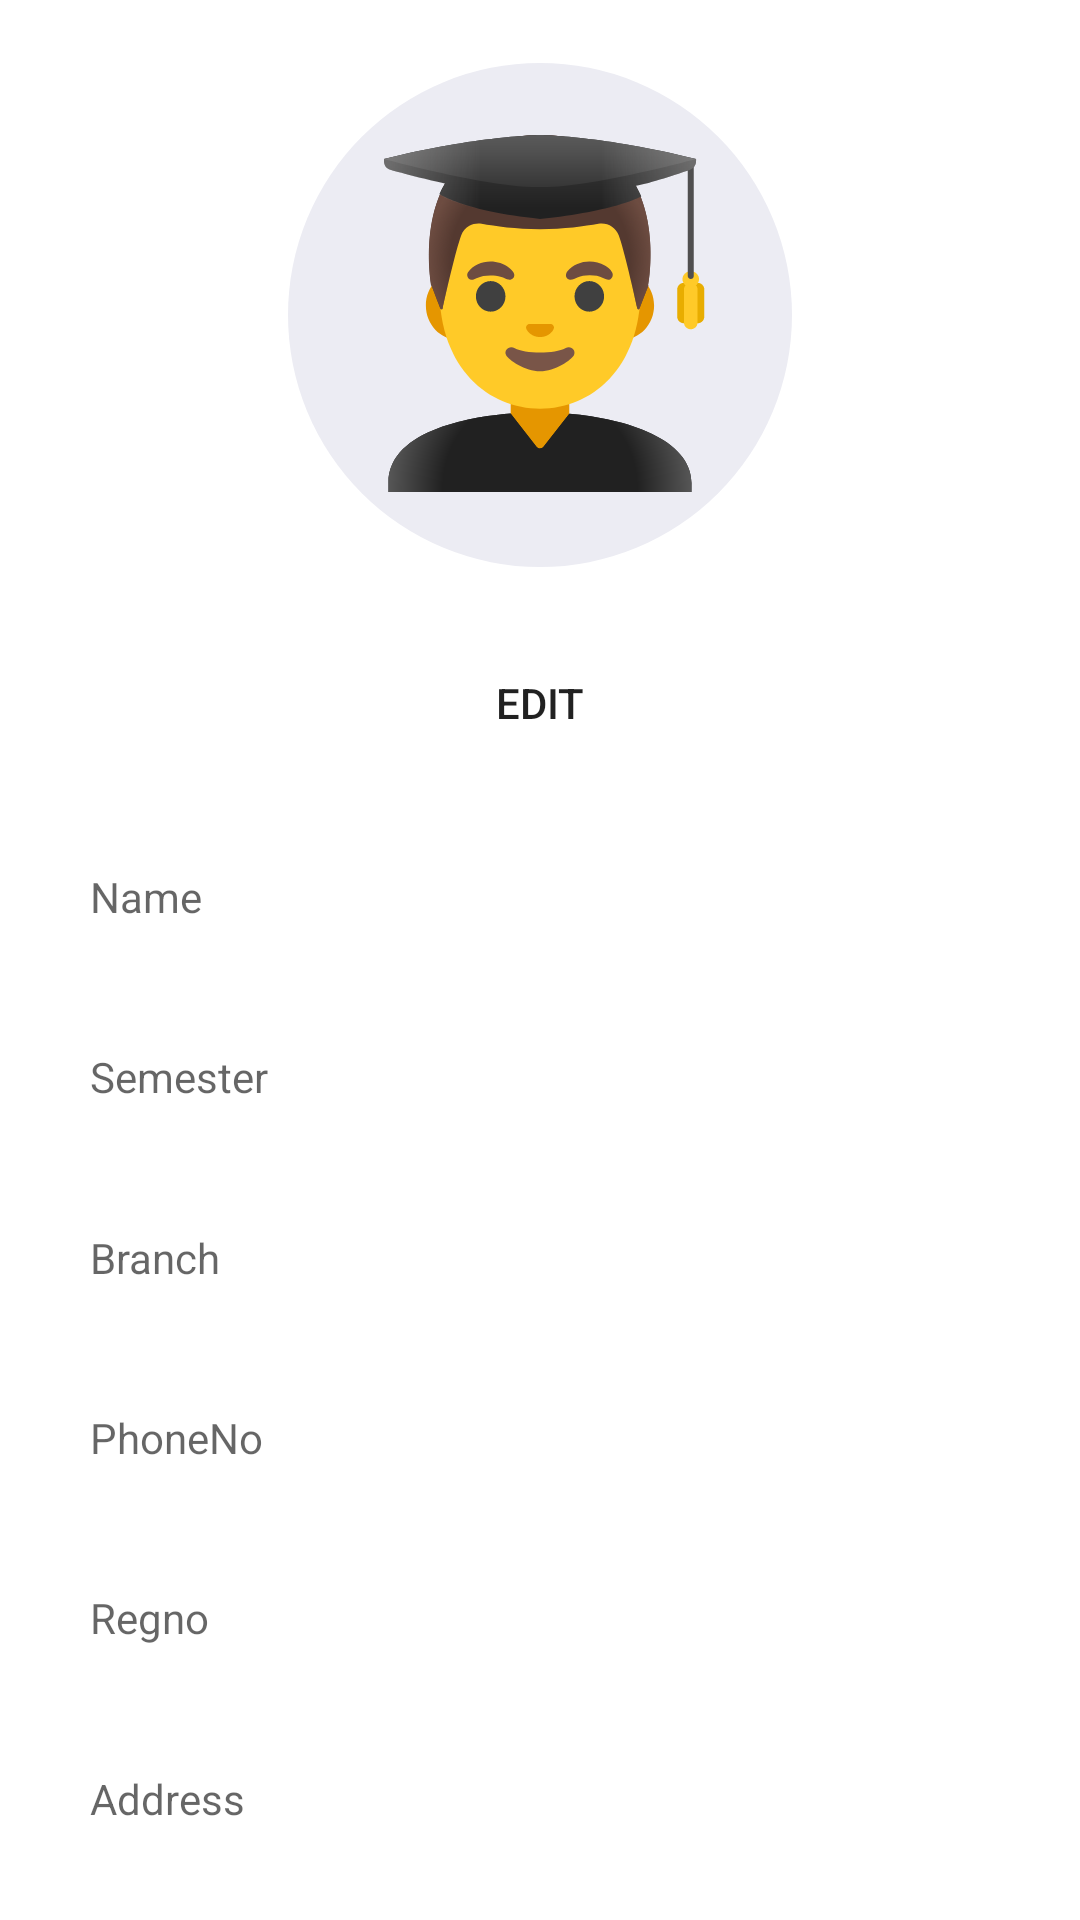

Named icons in this screenshot (1080 x 1920) and their centers, [x,y]:
student: [544,313]
